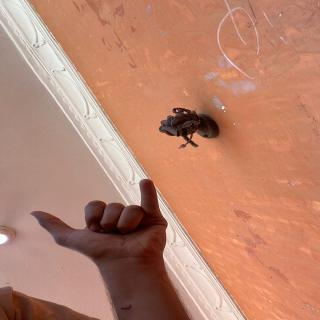YA: (22, 174, 179, 258)
